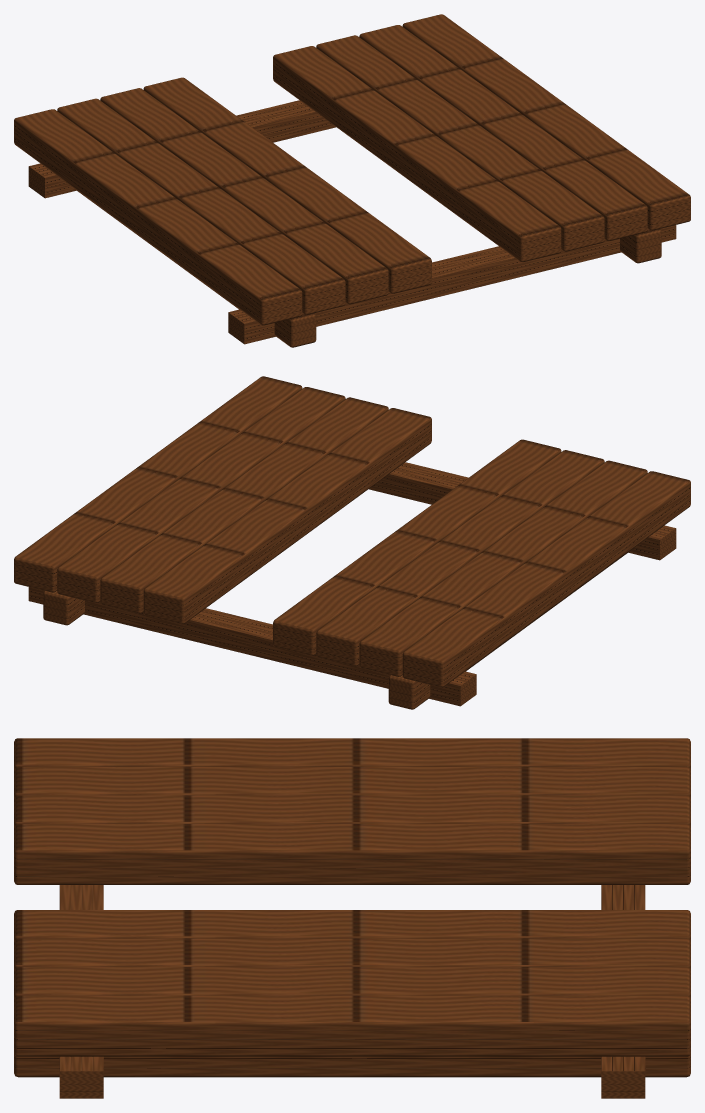
File: modular-survival-base-builder-floor-service-channel-5a31887f__24145.glb
3 views of the same model, one above another, from view 1: azimuth 30°, elevation 25°; view 2: azimuth 150°, elevation 25°; view 3: azimuth 270°, elevation 25° (orthographic). The views are drawn at different scales.
Parts seen in each view (by area): view 1: floor-service-channel; view 2: floor-service-channel; view 3: floor-service-channel.
Part boxes in pixels (x1,y1,x2,y2): floor-service-channel: [14, 14, 690, 347]; floor-service-channel: [14, 376, 690, 709]; floor-service-channel: [14, 738, 690, 1098].
Size of the model in its own units: 2 by 0.25 by 2.
Materials: 1 (1 with a texture image).
